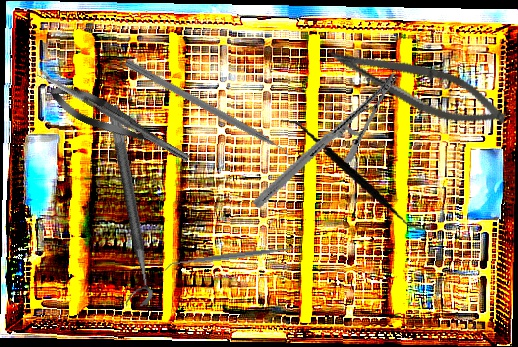Chopper: (118, 58, 300, 170)
Fixation Ring: (91, 104, 155, 309)
Micro Scissor: (320, 37, 513, 138), (44, 77, 186, 166)
Needle Holder: (250, 42, 402, 238)
Spatula Surgical: (267, 119, 437, 232), (162, 240, 304, 273)
Surgical Spoon: (36, 68, 191, 162)
